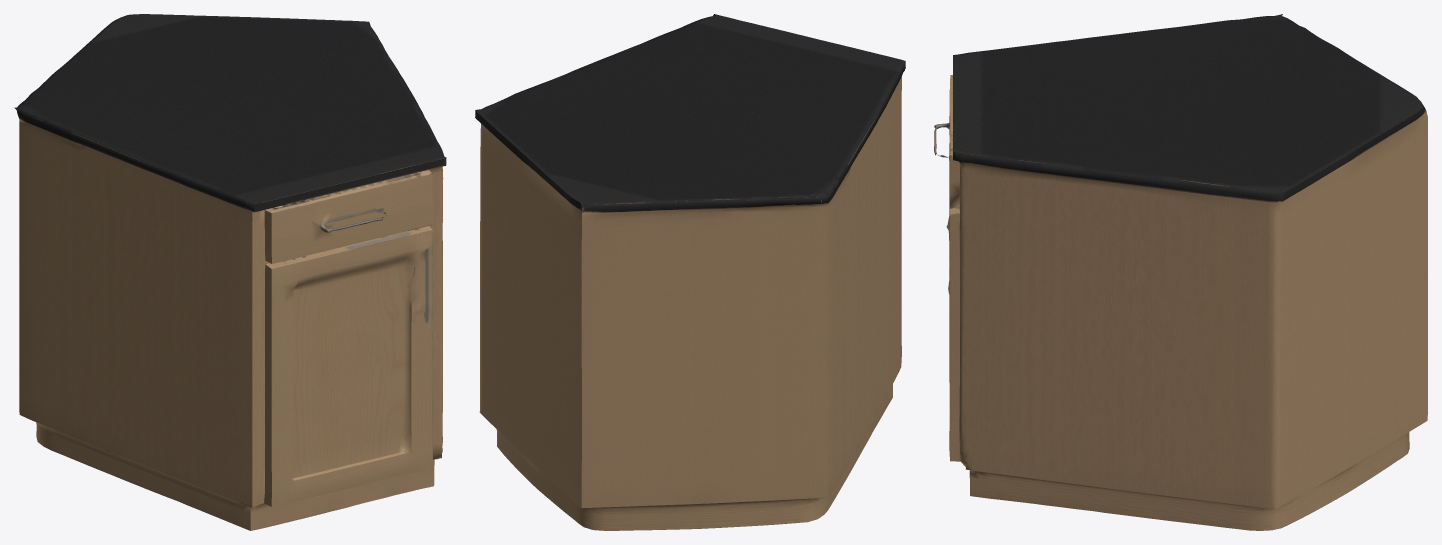
The model's file is 05-corner-unit.glb.
3 views of the same model, side by side, from view 1: azimuth 30°, elevation 25°; view 2: azimuth 150°, elevation 25°; view 3: azimuth 270°, elevation 25° (orthographic). The views are drawn at different scales.
Parts seen in each view (by area): view 1: Mesh_0; view 2: Mesh_0; view 3: Mesh_0.
Part boxes in pixels (x1=…): Mesh_0: x1=14, y1=14, x2=446, y2=530; Mesh_0: x1=475, y1=14, x2=905, y2=530; Mesh_0: x1=934, y1=14, x2=1427, y2=530.
Size of the model in its own units: 1.63 by 1.47 by 1.9.
Materials: 1 (1 with a texture image).
